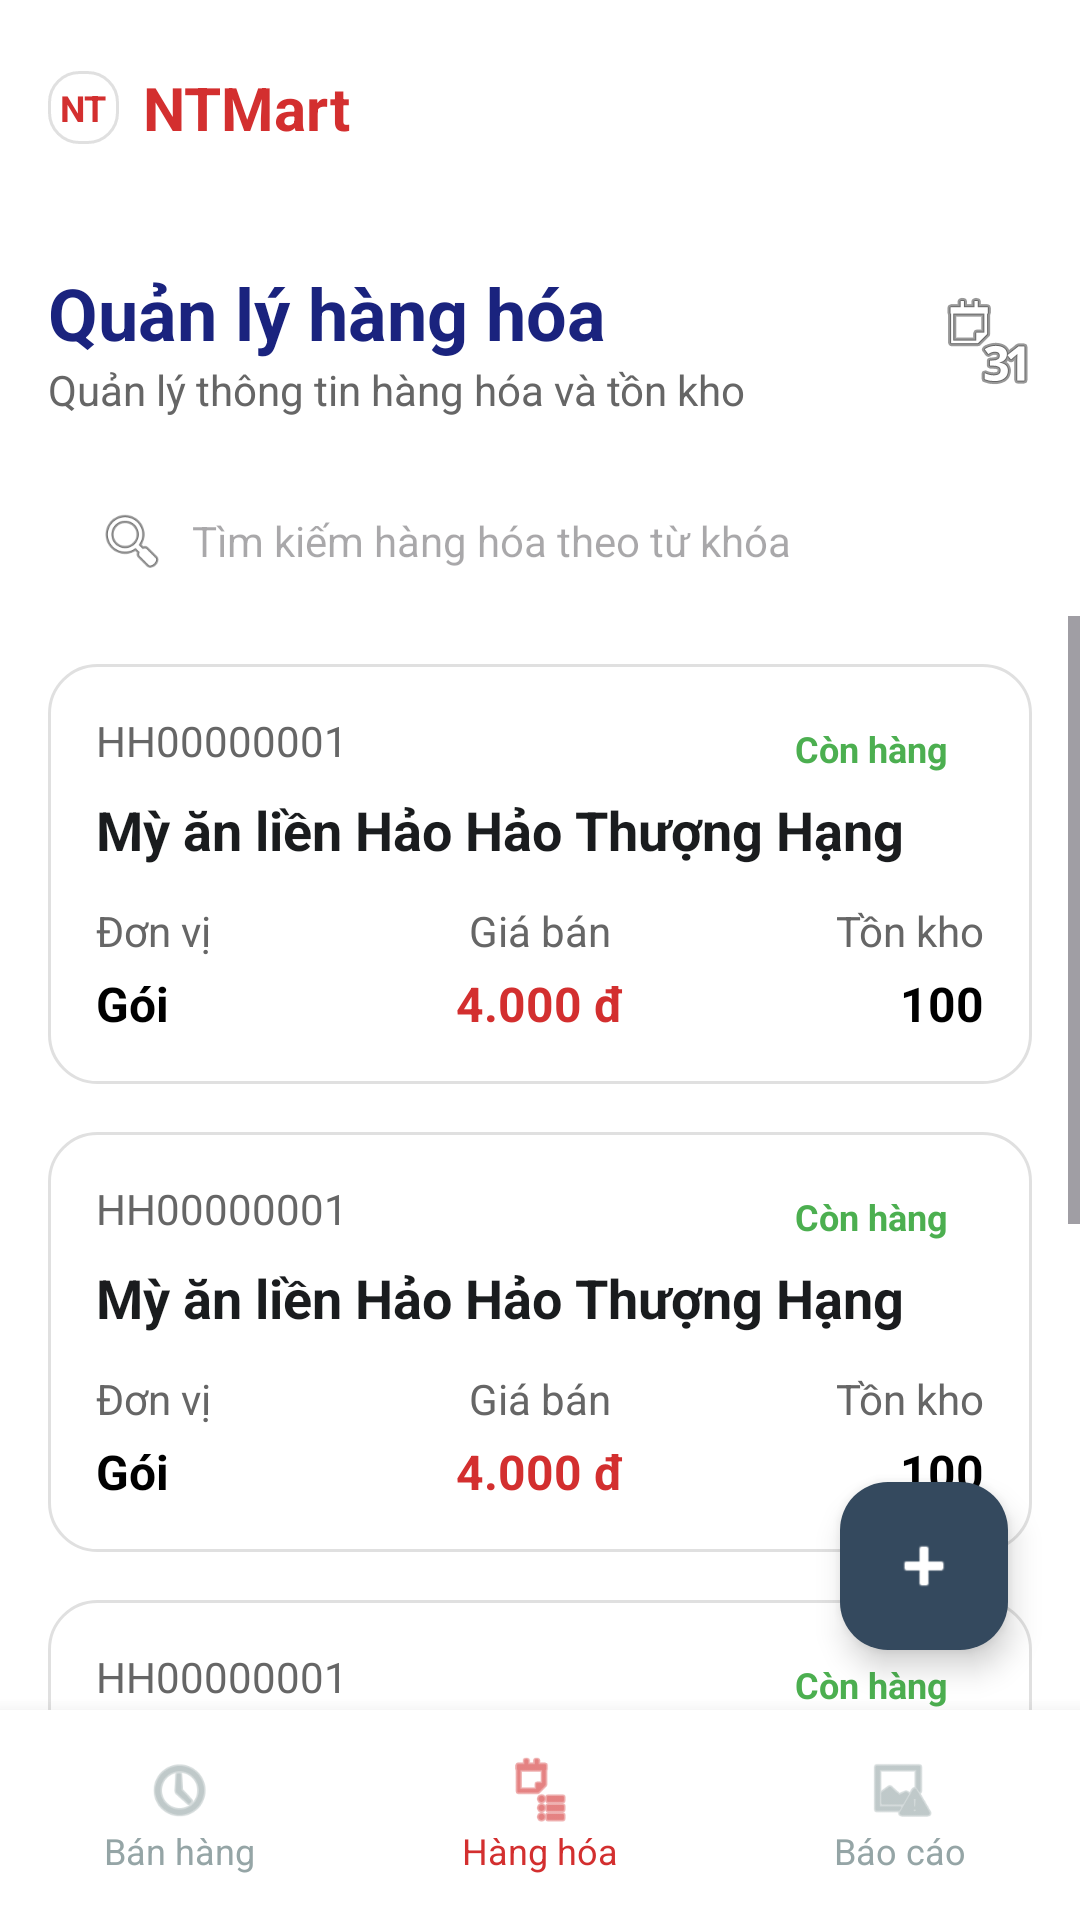

Named icons in this screenshot (1080 x 1920) and their centers, (x=x, y=y):
Add product: (x=924, y=1566)
Search icon: (x=132, y=541)
